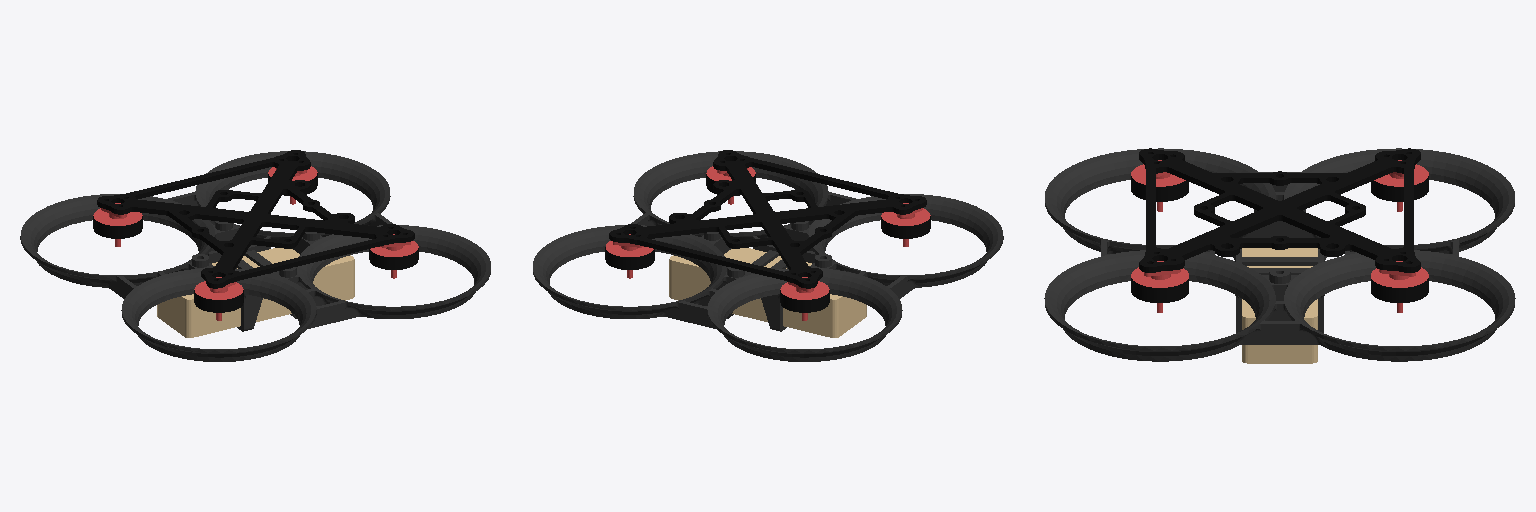
robot.urdf — sanity:
<?xml version="1.0"?>
<!-- SI units. All aircraft mass and inertia are on base_link; rotor links define massless frames. -->
<robot name="sanity">
<link name="base_link">
<inertial>
  <origin xyz="0 0 0" rpy="0 0 0"/>
  <!-- 2026-10-19 bifilar working estimate; COM/fixture assumptions: docs/technical-notes.md. -->
  <mass value="0.06947"/>
  <inertia ixx="0.0000332" ixy="0" ixz="0" iyy="0.0000428" iyz="0" izz="0.0000543"/>
</inertial>
<visual name="material_0"><geometry><mesh filename="meshes/visual/material_0.obj" scale="1 1 1"/></geometry><material name="material_0"><color rgba="0.854306 0.34919 0.34919 1"/></material></visual>
<visual name="material_1"><geometry><mesh filename="meshes/visual/material_1.obj" scale="1 1 1"/></geometry><material name="material_1"><color rgba="0.0998528 0.0998528 0.0998528 1"/></material></visual>
<visual name="material_2"><geometry><mesh filename="meshes/visual/material_2.obj" scale="1 1 1"/></geometry><material name="material_2"><color rgba="0.896244 0.791787 0.618031 1"/></material></visual>
<visual name="material_3"><geometry><mesh filename="meshes/visual/material_3.obj" scale="1 1 1"/></geometry><material name="material_3"><color rgba="0.247059 0.247059 0.247059 1"/></material></visual>
<visual name="material_4"><geometry><mesh filename="meshes/visual/material_4.obj" scale="1 1 1"/></geometry><material name="material_4"><color rgba="0.0998528 0.0998528 0.0998528 1"/></material></visual>
<visual name="material_5"><geometry><mesh filename="meshes/visual/material_5.obj" scale="1 1 1"/></geometry><material name="material_5"><color rgba="0.0998528 0.0998528 0.0998528 1"/></material></visual>
<collision name="conservative_envelope"><geometry><mesh filename="meshes/collision/envelope.obj" scale="1 1 1"/></geometry></collision>
</link>
<link name="rotor_1_rear_right"><inertial><mass value="0"/><inertia ixx="0" ixy="0" ixz="0" iyy="0" iyz="0" izz="0"/></inertial></link>
<joint name="rotor_1_frame" type="fixed"><parent link="base_link"/><child link="rotor_1_rear_right"/><origin xyz="-0.0284610479 -0.0284610479 0" rpy="0 0 0"/></joint>
<link name="rotor_2_front_right"><inertial><mass value="0"/><inertia ixx="0" ixy="0" ixz="0" iyy="0" iyz="0" izz="0"/></inertial></link>
<joint name="rotor_2_frame" type="fixed"><parent link="base_link"/><child link="rotor_2_front_right"/><origin xyz="0.0284610479 -0.0284610479 0" rpy="0 0 0"/></joint>
<link name="rotor_3_front_left"><inertial><mass value="0"/><inertia ixx="0" ixy="0" ixz="0" iyy="0" iyz="0" izz="0"/></inertial></link>
<joint name="rotor_3_frame" type="fixed"><parent link="base_link"/><child link="rotor_3_front_left"/><origin xyz="0.0284610479 0.0284610479 0" rpy="0 0 0"/></joint>
<link name="rotor_4_rear_left"><inertial><mass value="0"/><inertia ixx="0" ixy="0" ixz="0" iyy="0" iyz="0" izz="0"/></inertial></link>
<joint name="rotor_4_frame" type="fixed"><parent link="base_link"/><child link="rotor_4_rear_left"/><origin xyz="-0.0284610479 0.0284610479 0" rpy="0 0 0"/></joint>
</robot>

--- What the picture shows (computed from the rendered views, not written in the file) ---
3 views of the same robot in one strip: view 1: azimuth 30°, elevation 25°; view 2: azimuth 150°, elevation 25°; view 3: azimuth 270°, elevation 25° (orthographic).
Robot: sanity — 5 links, 4 joints (4 fixed); root link base_link; default pose: every joint at zero.
Links seen in each view (by area): view 1: base_link; view 2: base_link; view 3: base_link.
Link boxes in pixels (left/top/right/bottom): base_link: left=20, top=150, right=490, bottom=361; base_link: left=533, top=150, right=1003, bottom=361; base_link: left=1044, top=148, right=1515, bottom=363.
Bounding box of the posed robot: 0.1119 × 0.1119 × 0.0295 m (x, y, z).
Meshes: 6 distinct files referenced, 5 mesh visuals loaded (5 OBJ); not drawn: 1 (reference not matched to a file when rendering).
